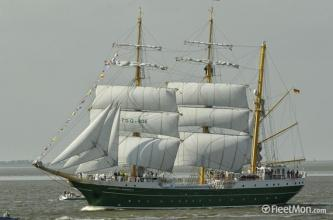fanchuan: (36, 5, 306, 207)
